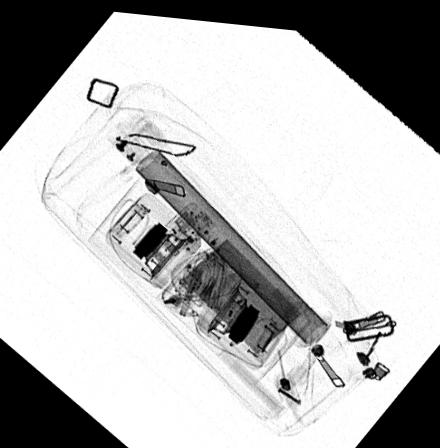Powerbank: (144, 197, 308, 356)
